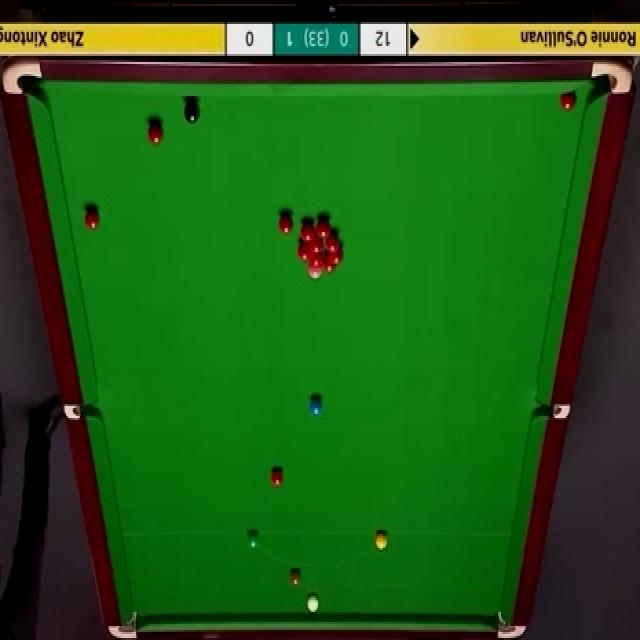black-ball: (184, 100, 200, 124)
blue-ball: (309, 394, 324, 417)
brown-ball: (288, 571, 300, 586)
green-ball: (246, 532, 260, 550)
pink-ball: (307, 268, 322, 278)
red-ball: (148, 122, 164, 146), (300, 222, 316, 244), (278, 213, 293, 234), (561, 92, 577, 111), (296, 240, 309, 262), (85, 210, 99, 230), (317, 218, 330, 238), (327, 232, 340, 252), (271, 467, 283, 488), (322, 257, 336, 274), (330, 251, 345, 264), (310, 254, 321, 270), (309, 242, 323, 252)
white-ball: (306, 594, 319, 613)
yellow-ball: (376, 531, 388, 549)
